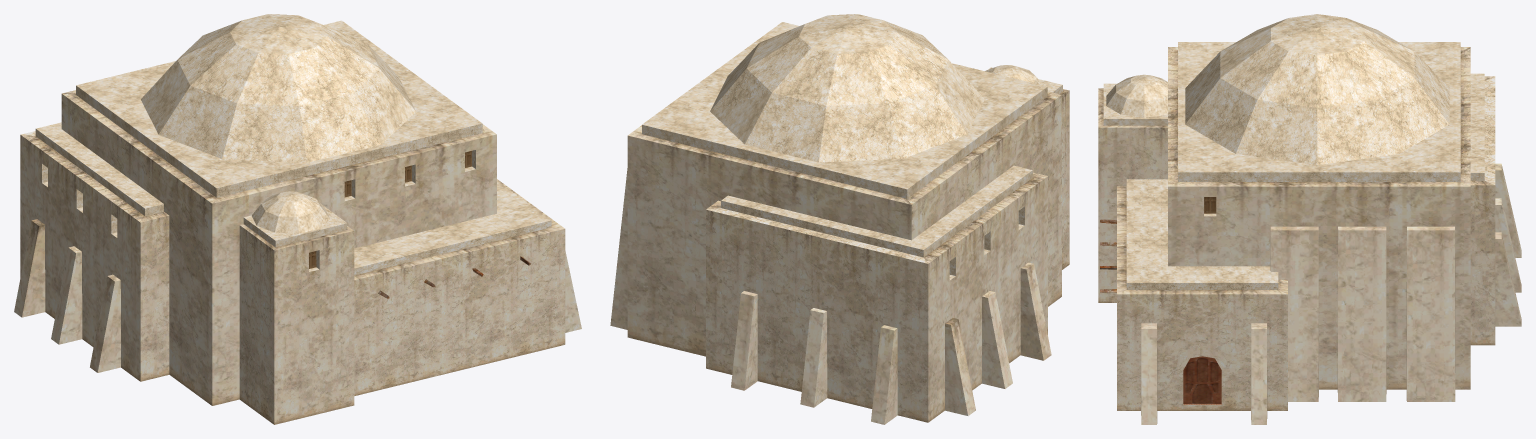
Rendered from thm_tato_imprv_building_s01_l1.fbx.
3 views of the same model, side by side, from view 1: azimuth 30°, elevation 25°; view 2: azimuth 150°, elevation 25°; view 3: azimuth 270°, elevation 25° (orthographic).
Parts seen in each view (by area): view 1: mesh_node; view 2: mesh_node; view 3: mesh_node.
Boxes of the visible parts, left/top/right/bottom form: mesh_node: left=14, top=14, right=581, bottom=424; mesh_node: left=610, top=14, right=1069, bottom=424; mesh_node: left=1098, top=14, right=1521, bottom=424.
Bounding box in the file's own units: 26.2 × 17.79 × 23.43.
